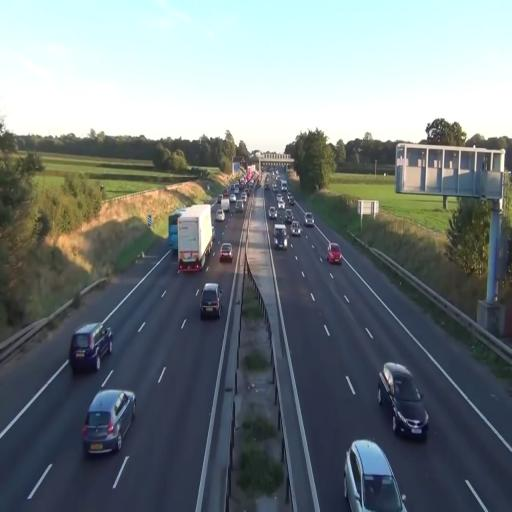vehicle: (344, 438, 407, 512), (378, 362, 430, 439), (82, 388, 136, 457), (176, 203, 214, 275), (177, 203, 214, 275), (69, 320, 113, 374), (199, 282, 221, 321), (273, 225, 288, 249), (326, 242, 342, 264), (218, 242, 234, 264), (304, 212, 314, 228), (291, 222, 301, 237)
